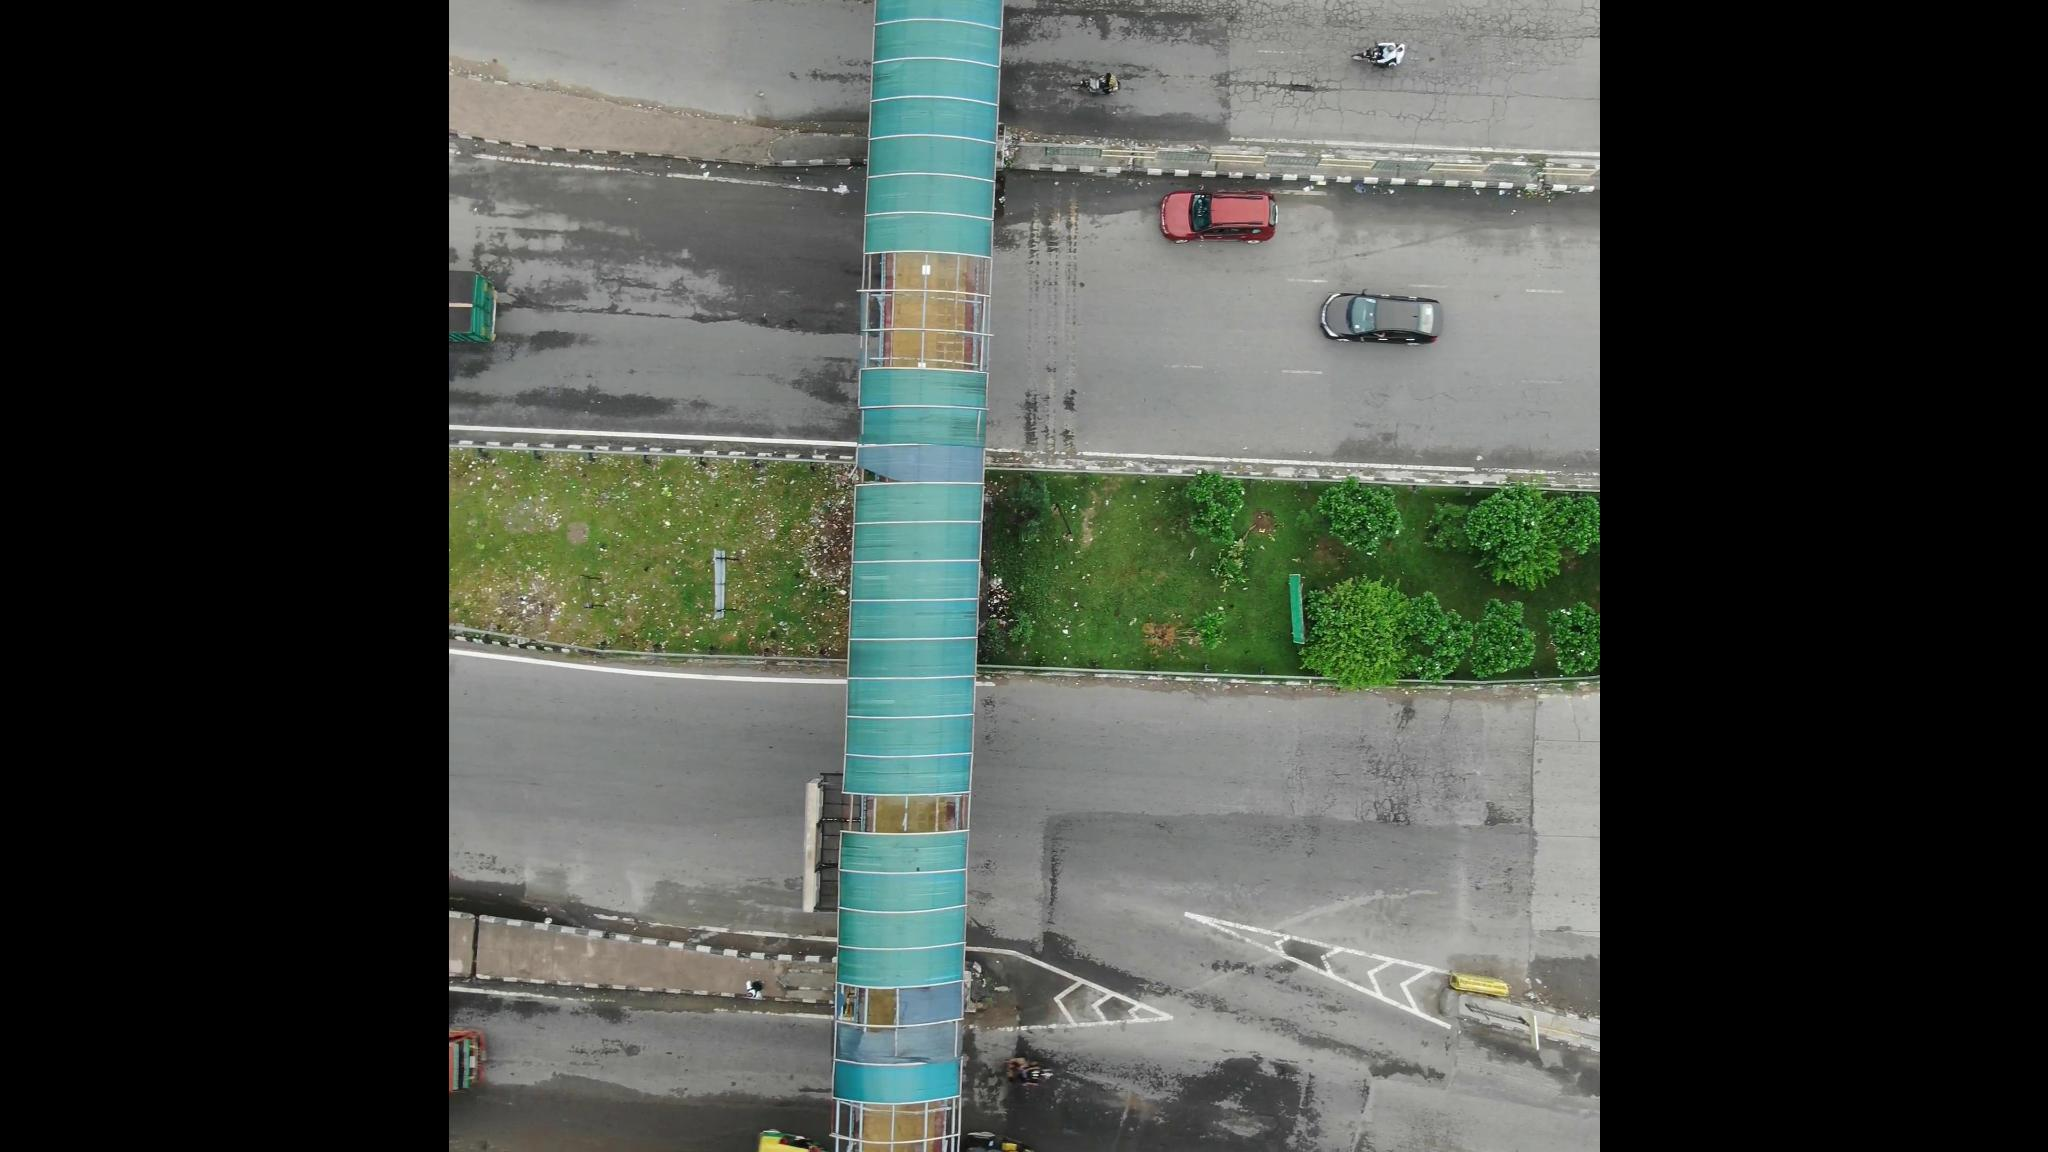Cracks: (1055, 1, 1280, 122), (1286, 708, 1452, 843), (1452, 1, 1589, 125)
